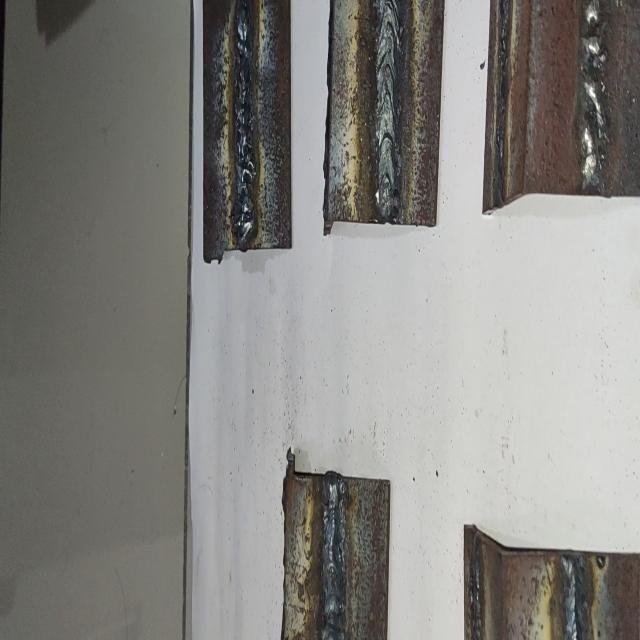Defect: (581, 1, 606, 180), (236, 0, 253, 244)
Welding Line: (377, 0, 400, 214), (582, 0, 606, 186), (236, 0, 254, 246), (323, 477, 347, 640)
Workpiece: (479, 0, 640, 227), (321, 0, 448, 244), (200, 0, 296, 270), (457, 514, 640, 640), (275, 448, 393, 640)
